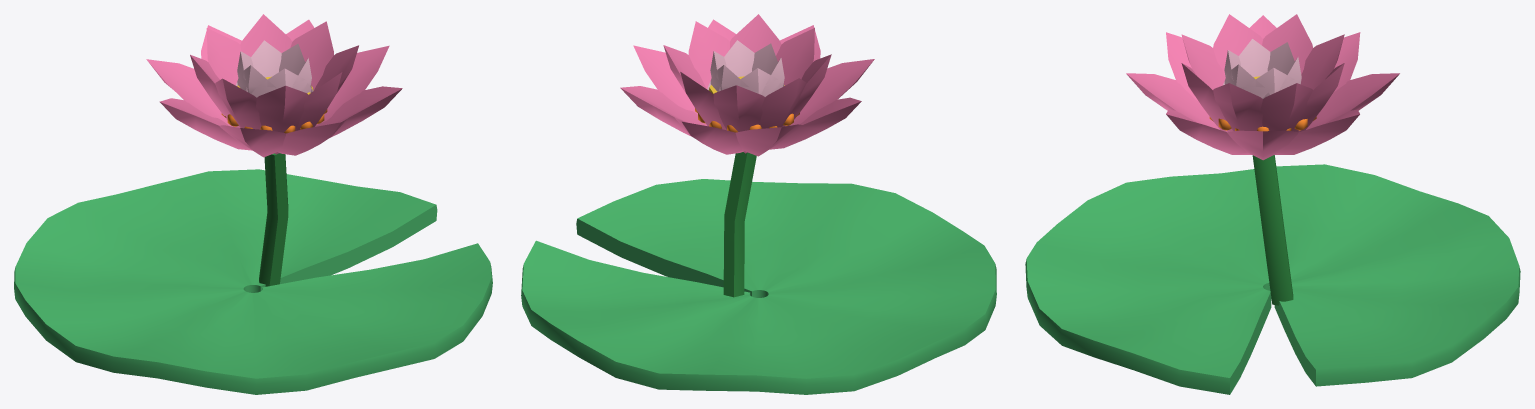
Rendered from lotus_flower.glb.
3 views of the same model, side by side, from view 1: azimuth 30°, elevation 25°; view 2: azimuth 150°, elevation 25°; view 3: azimuth 270°, elevation 25° (orthographic). The views are drawn at different scales.
Parts seen in each view (by area): view 1: lotus_flower; view 2: lotus_flower; view 3: lotus_flower.
Part boxes in pixels (x1,y1,x2,y2): lotus_flower: [14, 14, 492, 394]; lotus_flower: [521, 14, 996, 394]; lotus_flower: [1025, 14, 1520, 394].
Bounding box in the file's own units: 0.9974 × 0.5877 × 1.
